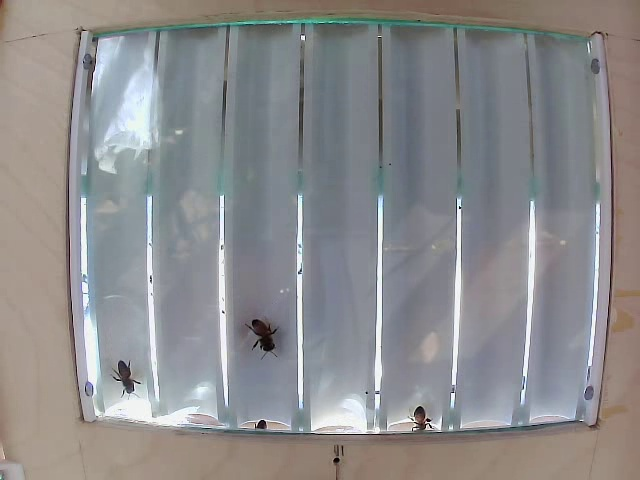bee: (239, 309, 285, 365), (108, 368, 148, 402)
